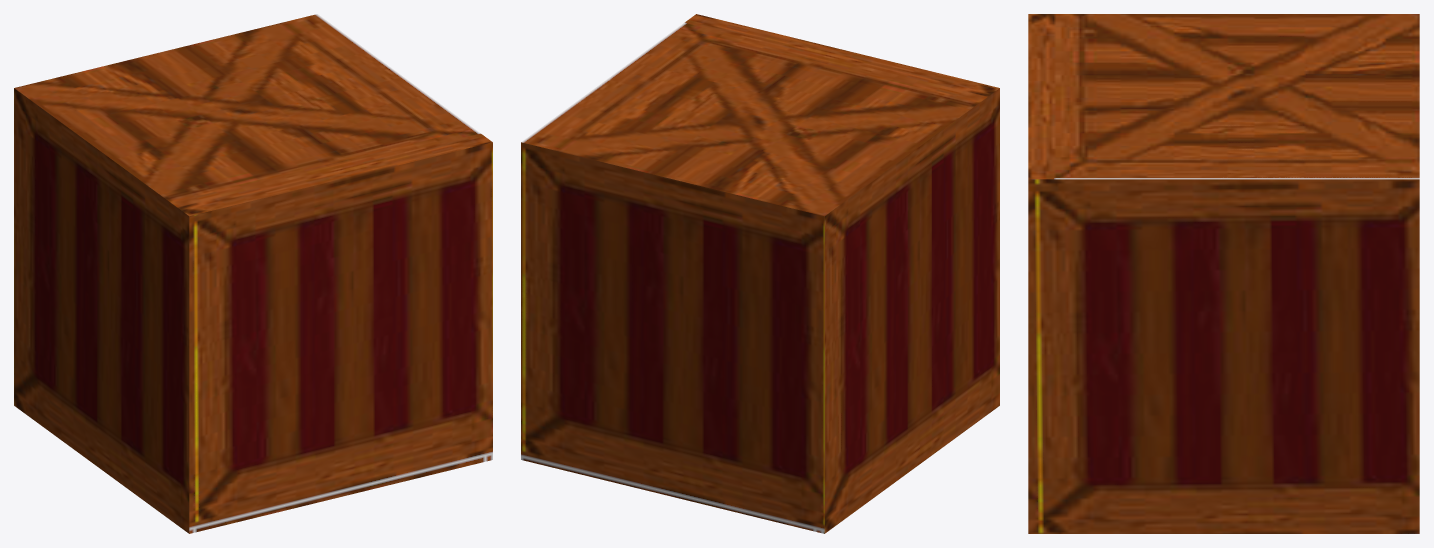
Rendered from JumpBoxFracture.glb.
3 renders of one model, left to right at view 1: azimuth 30°, elevation 25°; view 2: azimuth 150°, elevation 25°; view 3: azimuth 270°, elevation 25°, orthographic. The views are drawn at different scales.
Visible parts, largest first — view 1: Cube, Cube_cell.006, Cube_cell.007, Cube_cell.003, Cube_cell.005, Cube_cell.004, Cube_cell.002, Cube_cell; view 2: Cube, Cube_cell.005, Cube_cell.001, Cube_cell, Cube_cell.004, Cube_cell.006, Cube_cell.007; view 3: Cube, Cube_cell.003, Cube_cell.006, Cube_cell, Cube_cell.002, Cube_cell.001, Cube_cell.004.
Part boxes in pixels (<box>): Cube: <box>14,14,492,533</box>; Cube_cell.006: <box>100,114,341,394</box>; Cube_cell.007: <box>103,330,381,533</box>; Cube_cell.003: <box>369,326,492,484</box>; Cube_cell.005: <box>14,217,106,469</box>; Cube_cell.004: <box>14,55,214,256</box>; Cube_cell.002: <box>349,143,492,352</box>; Cube_cell: <box>151,14,403,116</box>; Cube: <box>521,14,999,533</box>; Cube_cell.005: <box>654,289,917,533</box>; Cube_cell.001: <box>521,279,659,493</box>; Cube_cell: <box>521,78,775,321</box>; Cube_cell.004: <box>688,136,912,342</box>; Cube_cell.006: <box>768,50,999,313</box>; Cube_cell.007: <box>913,268,999,468</box>; Cube: <box>1028,14,1419,533</box>; Cube_cell.003: <box>1028,356,1244,533</box>; Cube_cell.006: <box>1028,14,1245,97</box>; Cube_cell: <box>1221,83,1419,331</box>; Cube_cell.002: <box>1028,97,1245,380</box>; Cube_cell.001: <box>1219,329,1419,533</box>; Cube_cell.004: <box>1224,14,1419,85</box>.
Bounding box in the file's own units: 2 × 2 × 2.
1 material, 1 textured.
